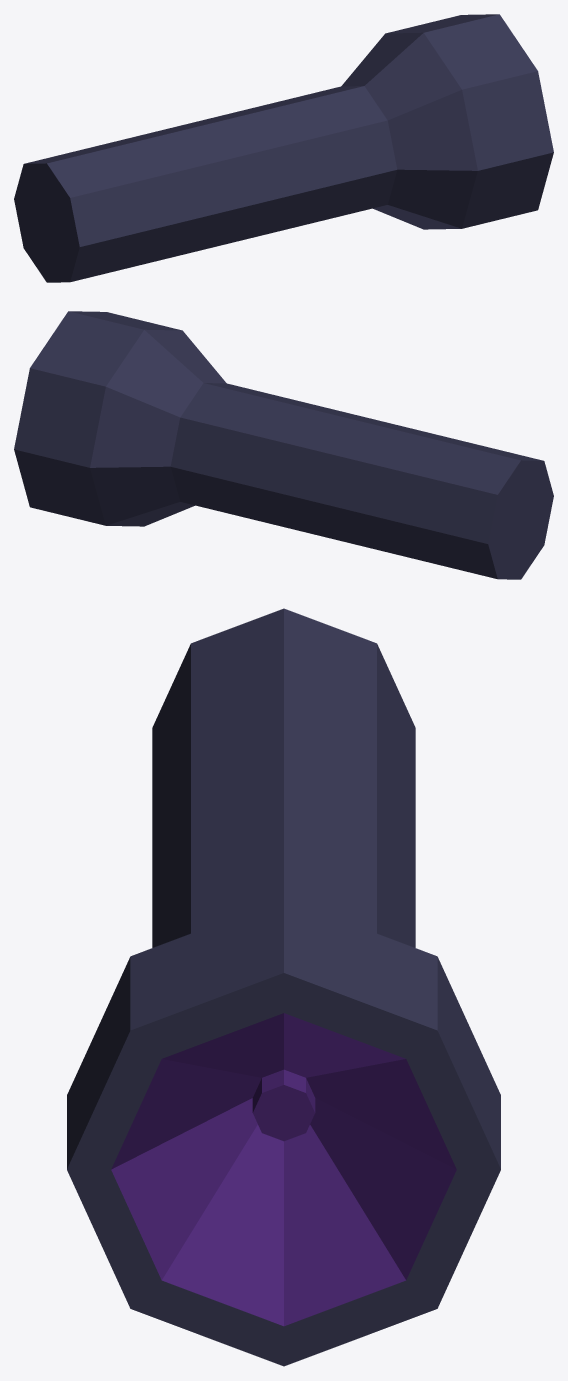
The model's file is 17.UV flashlight.fbx.
3 renders of one model, top to bottom at view 1: azimuth 30°, elevation 25°; view 2: azimuth 150°, elevation 25°; view 3: azimuth 270°, elevation 25°, orthographic. The views are drawn at different scales.
Visible parts, largest first — view 1: Flashlight; view 2: Flashlight; view 3: Flashlight.
Boxes of the visible parts, x1=… form: Flashlight: x1=14, y1=14, x2=553, y2=282; Flashlight: x1=14, y1=311, x2=553, y2=579; Flashlight: x1=67, y1=608, x2=500, y2=1366.
Bounding box in the file's own units: 28.62 × 11.89 × 11.89.
